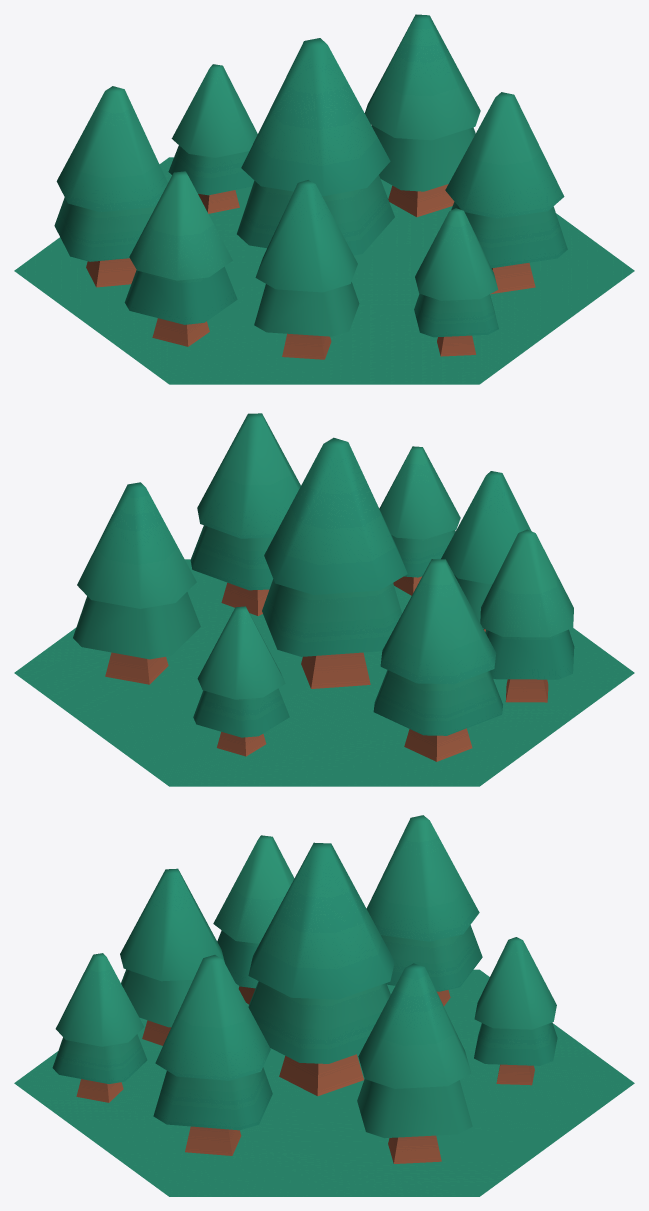
Rendered from flat_heavy_forest.glb.
The picture shows the model from 3 angles, top to bottom: view 1: azimuth 30°, elevation 25°; view 2: azimuth 150°, elevation 25°; view 3: azimuth 270°, elevation 25°; orthographic projection.
Visible parts, largest first — view 1: grass-forest; view 2: grass-forest; view 3: grass-forest.
Boxes of the visible parts, box(x1,y1,x2,y2) form: grass-forest: box(14, 14, 634, 384); grass-forest: box(14, 413, 634, 786); grass-forest: box(14, 815, 634, 1196).
Bounding box in the file's own units: 1 × 0.475 × 1.15.
Materials: 1 (1 with a texture image).
